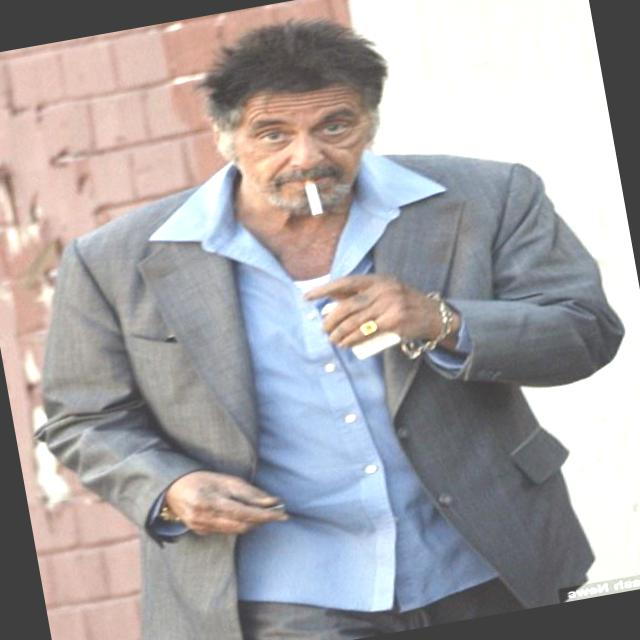smoke: (278, 166, 343, 246)
